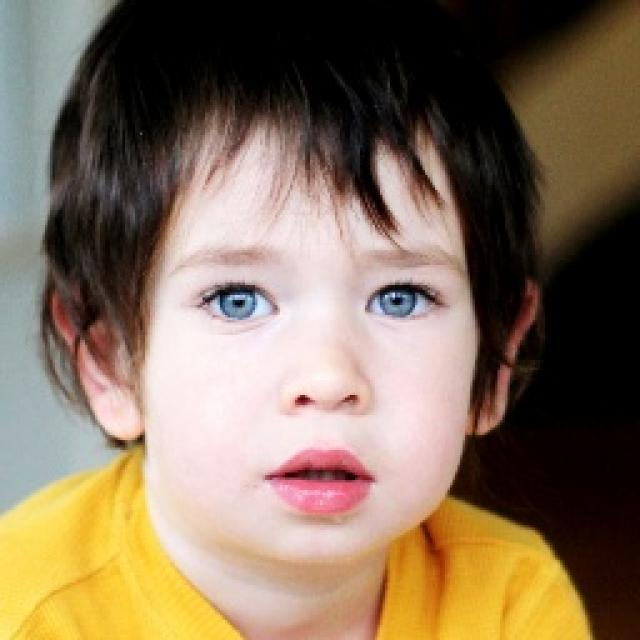earlobe: (101, 385, 144, 441), (465, 390, 509, 438)
eye: (193, 283, 280, 328), (362, 278, 442, 325)
nose: (279, 391, 371, 442)
wholeear: (49, 274, 144, 441), (464, 277, 540, 437)
